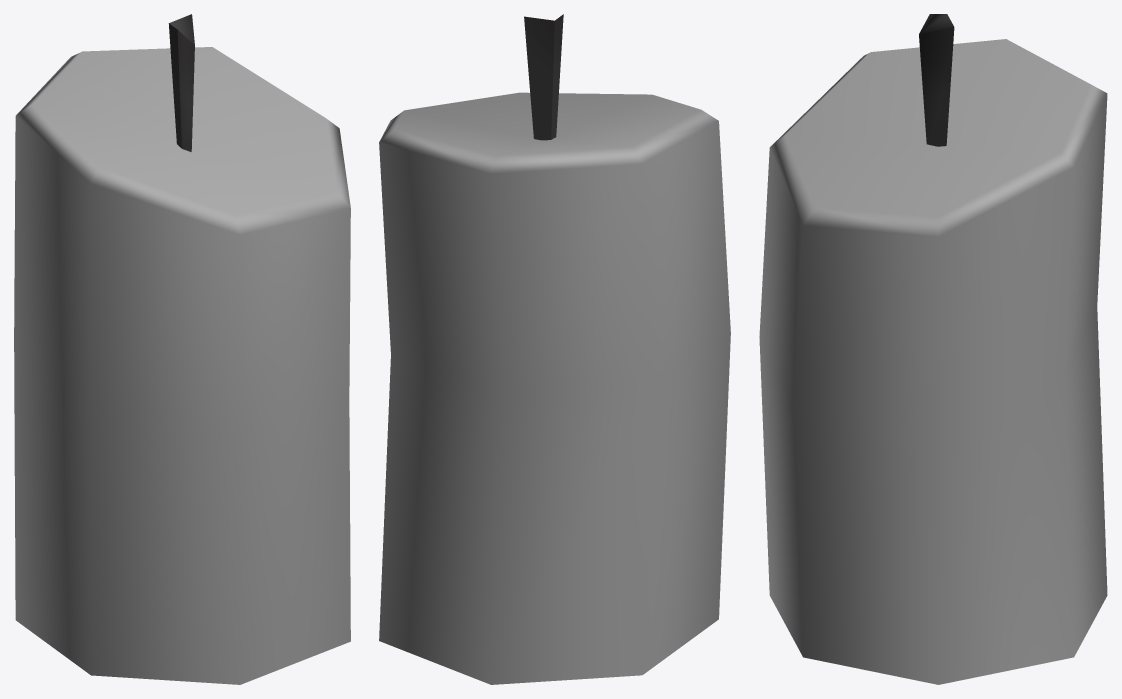
Rendered from SM_Candle.fbx.
3 views of the same model, side by side, from view 1: azimuth 30°, elevation 25°; view 2: azimuth 150°, elevation 25°; view 3: azimuth 270°, elevation 25° (orthographic).
Parts seen in each view (by area): view 1: Candle, String; view 2: Candle, String; view 3: Candle, String.
Part boxes in pixels (x1,y1,x2,y2): Candle: (14, 47, 350, 684); String: (168, 14, 194, 151); Candle: (379, 92, 730, 684); String: (524, 14, 563, 140); Candle: (759, 39, 1107, 684); String: (919, 14, 954, 146).
Bounding box in the file's own units: 11.91 × 23.01 × 12.3.
